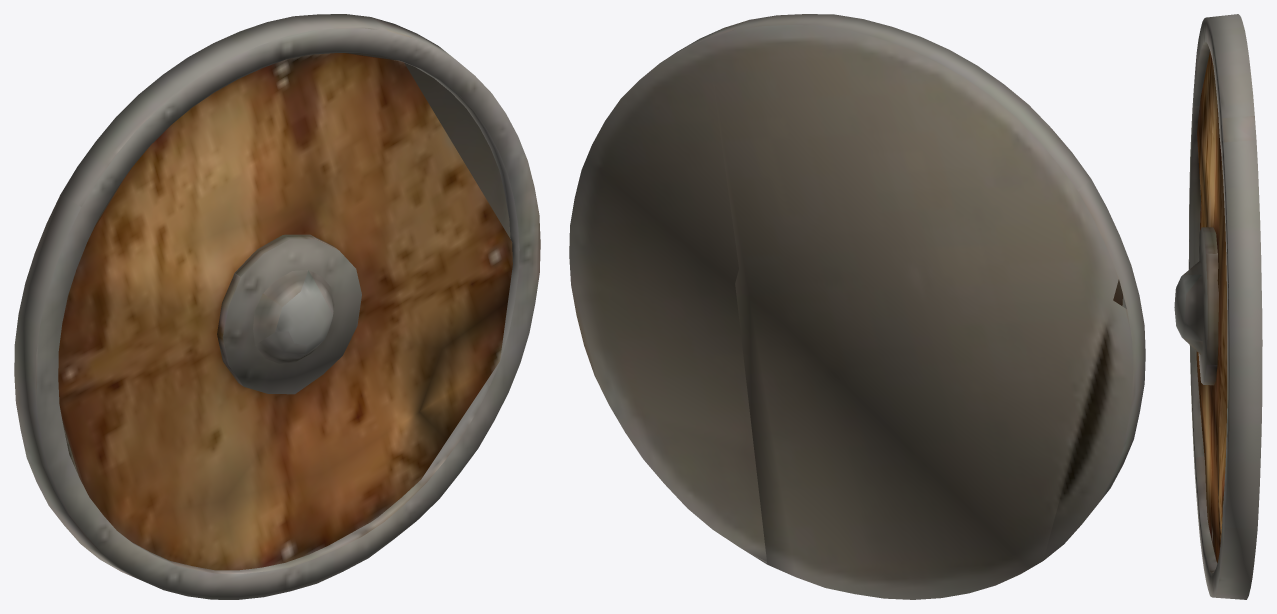
The model's file is shield_round.fbx.
3 renders of one model, left to right at view 1: azimuth 30°, elevation 25°; view 2: azimuth 150°, elevation 25°; view 3: azimuth 270°, elevation 25°, orthographic. The views are drawn at different scales.
Visible parts, largest first — view 1: tripo_node_c4322737-b4b3-4c91-b014-e467a8475a3d; view 2: tripo_node_c4322737-b4b3-4c91-b014-e467a8475a3d; view 3: tripo_node_c4322737-b4b3-4c91-b014-e467a8475a3d.
Boxes of the visible parts, bbox=[...] form: tripo_node_c4322737-b4b3-4c91-b014-e467a8475a3d: bbox=[14, 14, 540, 599]; tripo_node_c4322737-b4b3-4c91-b014-e467a8475a3d: bbox=[569, 14, 1145, 599]; tripo_node_c4322737-b4b3-4c91-b014-e467a8475a3d: bbox=[1174, 14, 1262, 599].
Bounding box in the file's own units: 0.7792 × 0.78 × 0.1177.
1 material, 1 textured.
